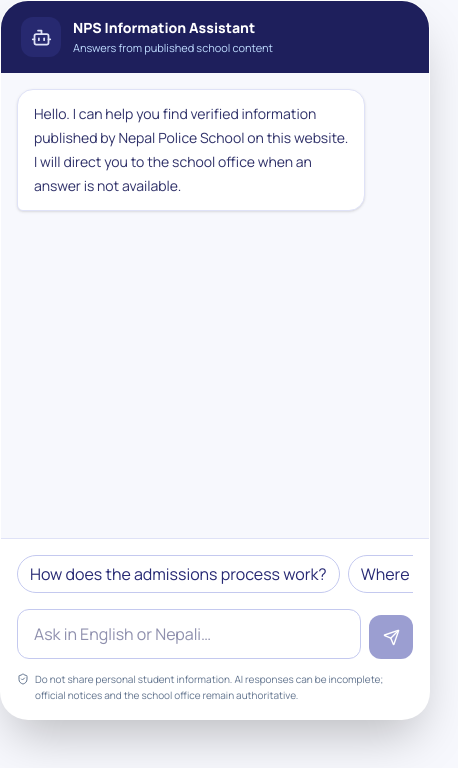
Test: public assistant UI › recovers from an assistant request that never responds
The image size is (458, 768).
Type "Tell me about admissions." into the field named "Ask a question" at (189, 634), box x1=17 y1=609 x2=361 y2=659
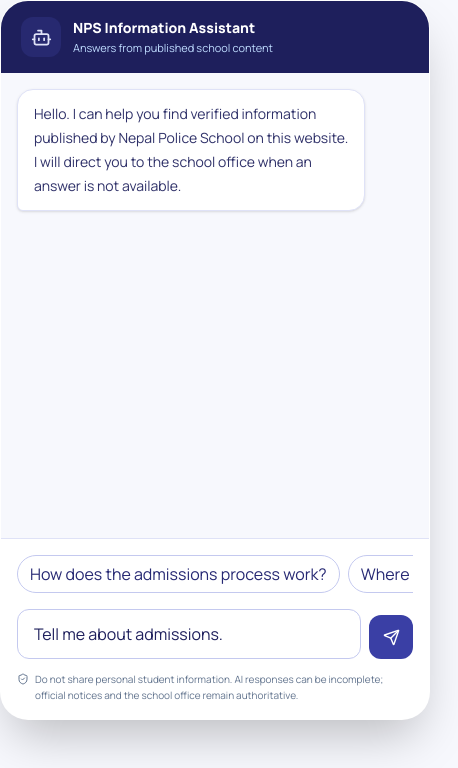
Click the button named "Send question" at (391, 637), box x1=369 y1=615 x2=413 y2=659
Wait 30000 ms
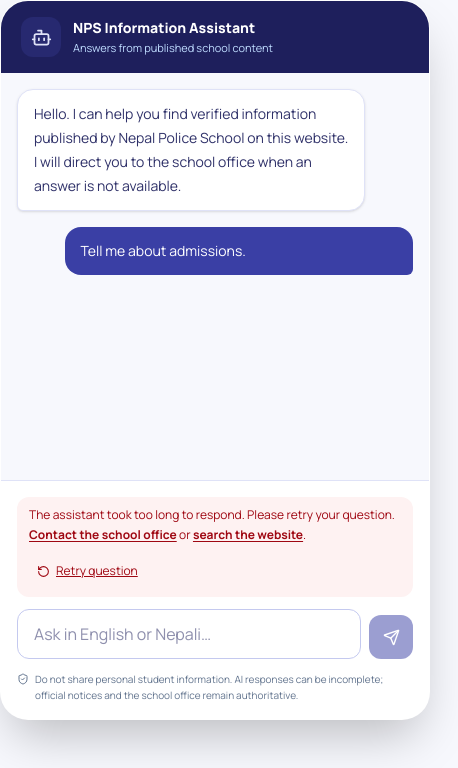
Check: the field named "Ask a question" is enabled, box x1=17 y1=609 x2=361 y2=659
Check: the message shows "took too long", box x1=29 y1=506 x2=395 y2=523
